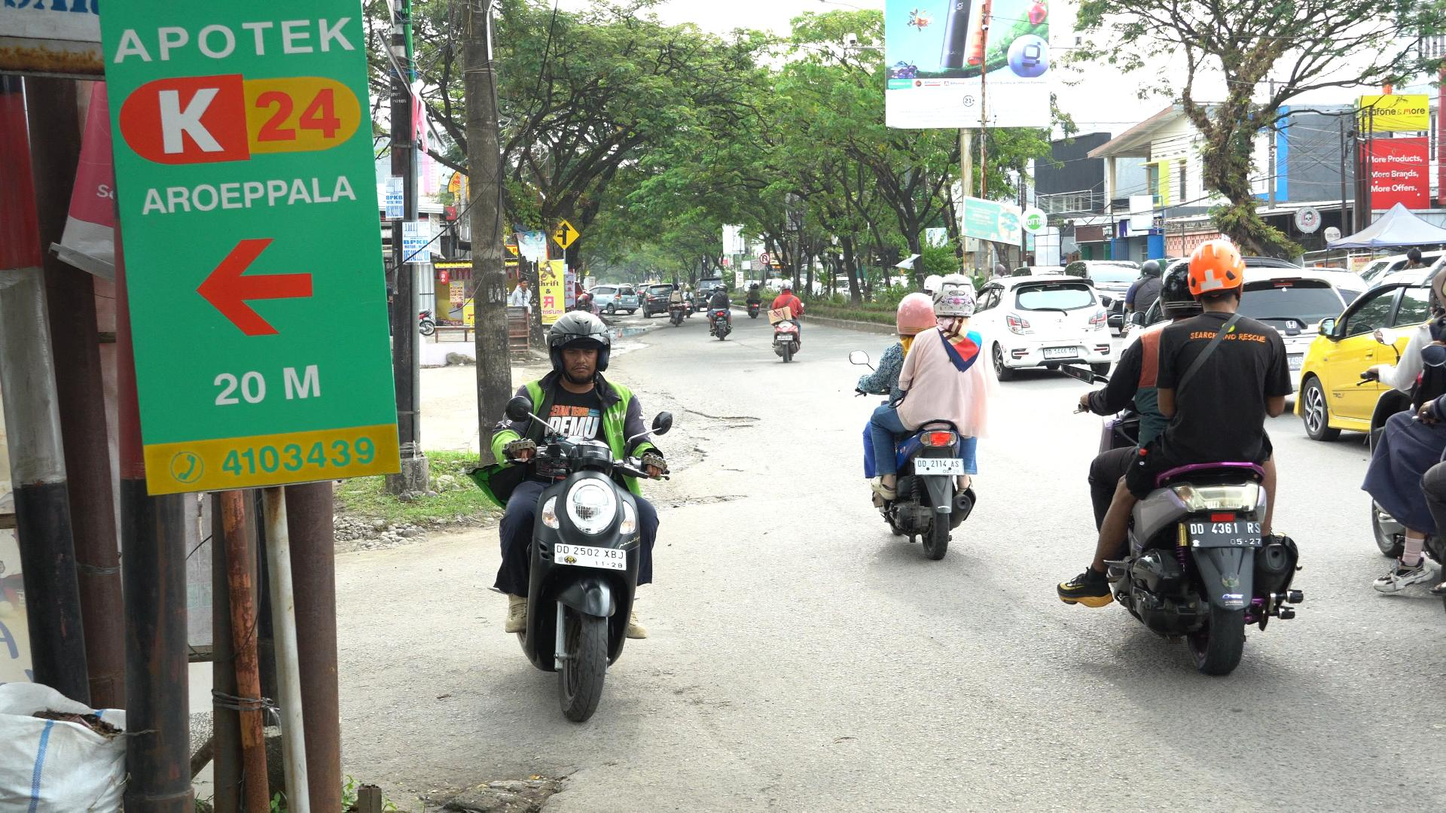number-plate: (550, 541, 628, 573)
